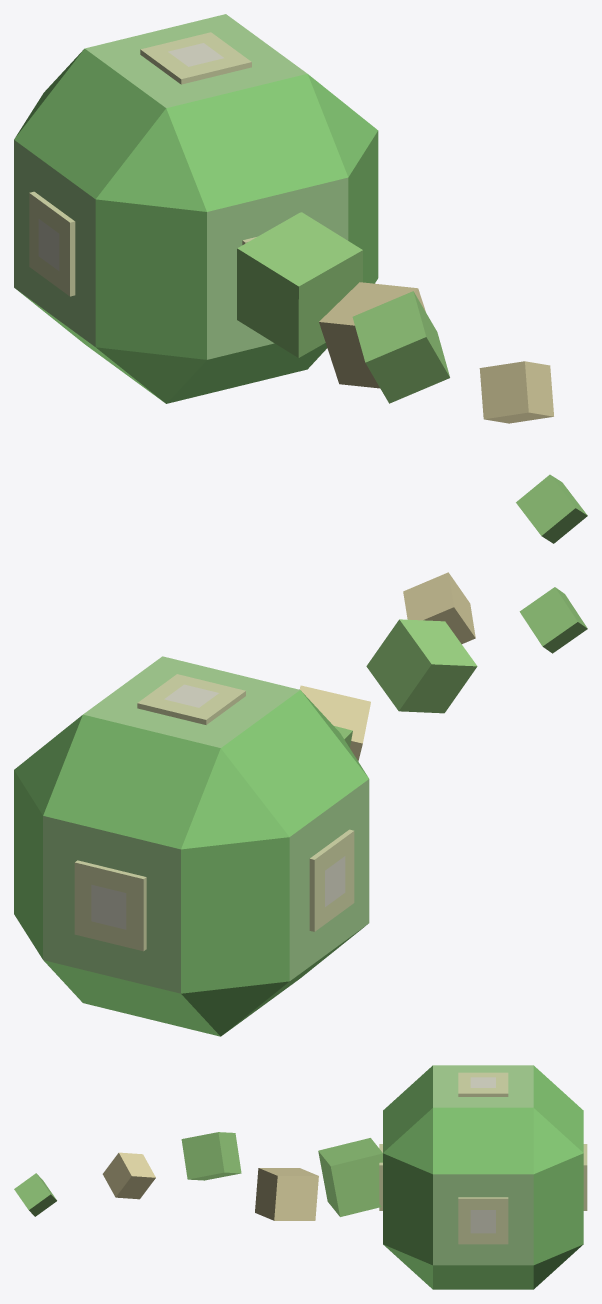
Rendered from slime_crown_staff_bolt_roblox.glb.
3 renders of one model, top to bottom at view 1: azimuth 30°, elevation 25°; view 2: azimuth 150°, elevation 25°; view 3: azimuth 270°, elevation 25°, orthographic. The views are drawn at different scales.
Visible parts, largest first — view 1: Gems, Bolt; view 2: Gems, Bolt; view 3: Gems, Bolt.
Boxes of the visible parts, box(x1,y1,x2,y2) form: Gems: box(14, 14, 553, 423); Bolt: box(237, 212, 587, 543); Gems: box(14, 572, 475, 1036); Bolt: box(334, 587, 587, 747); Gems: box(102, 1065, 587, 1289); Bolt: box(14, 1132, 382, 1216).
Size of the model in its own units: 0.2292 by 0.2292 by 0.6284.
